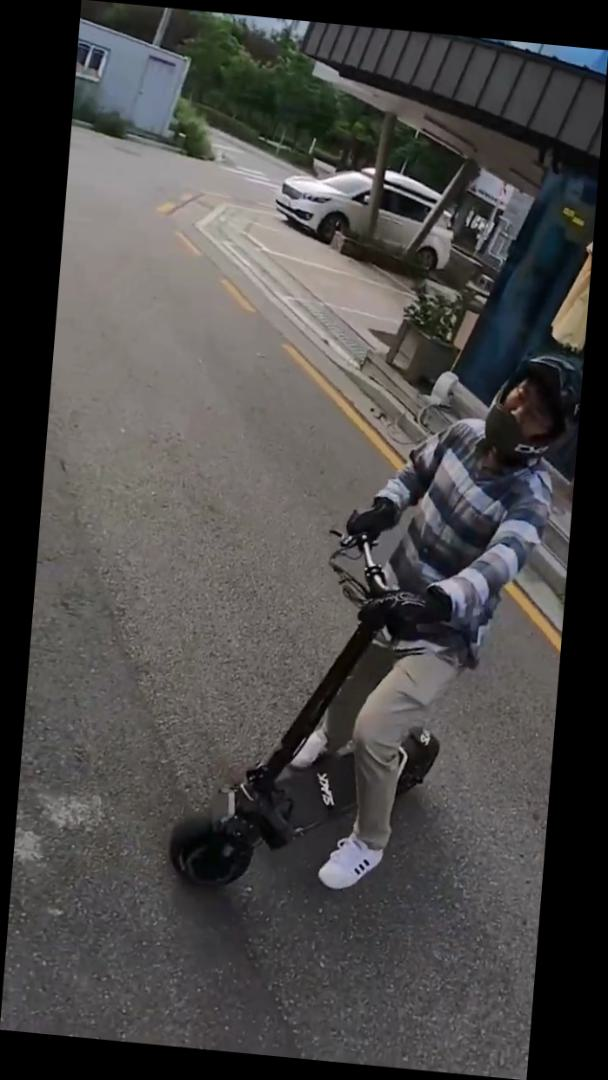helmet: (165, 319, 584, 925)
